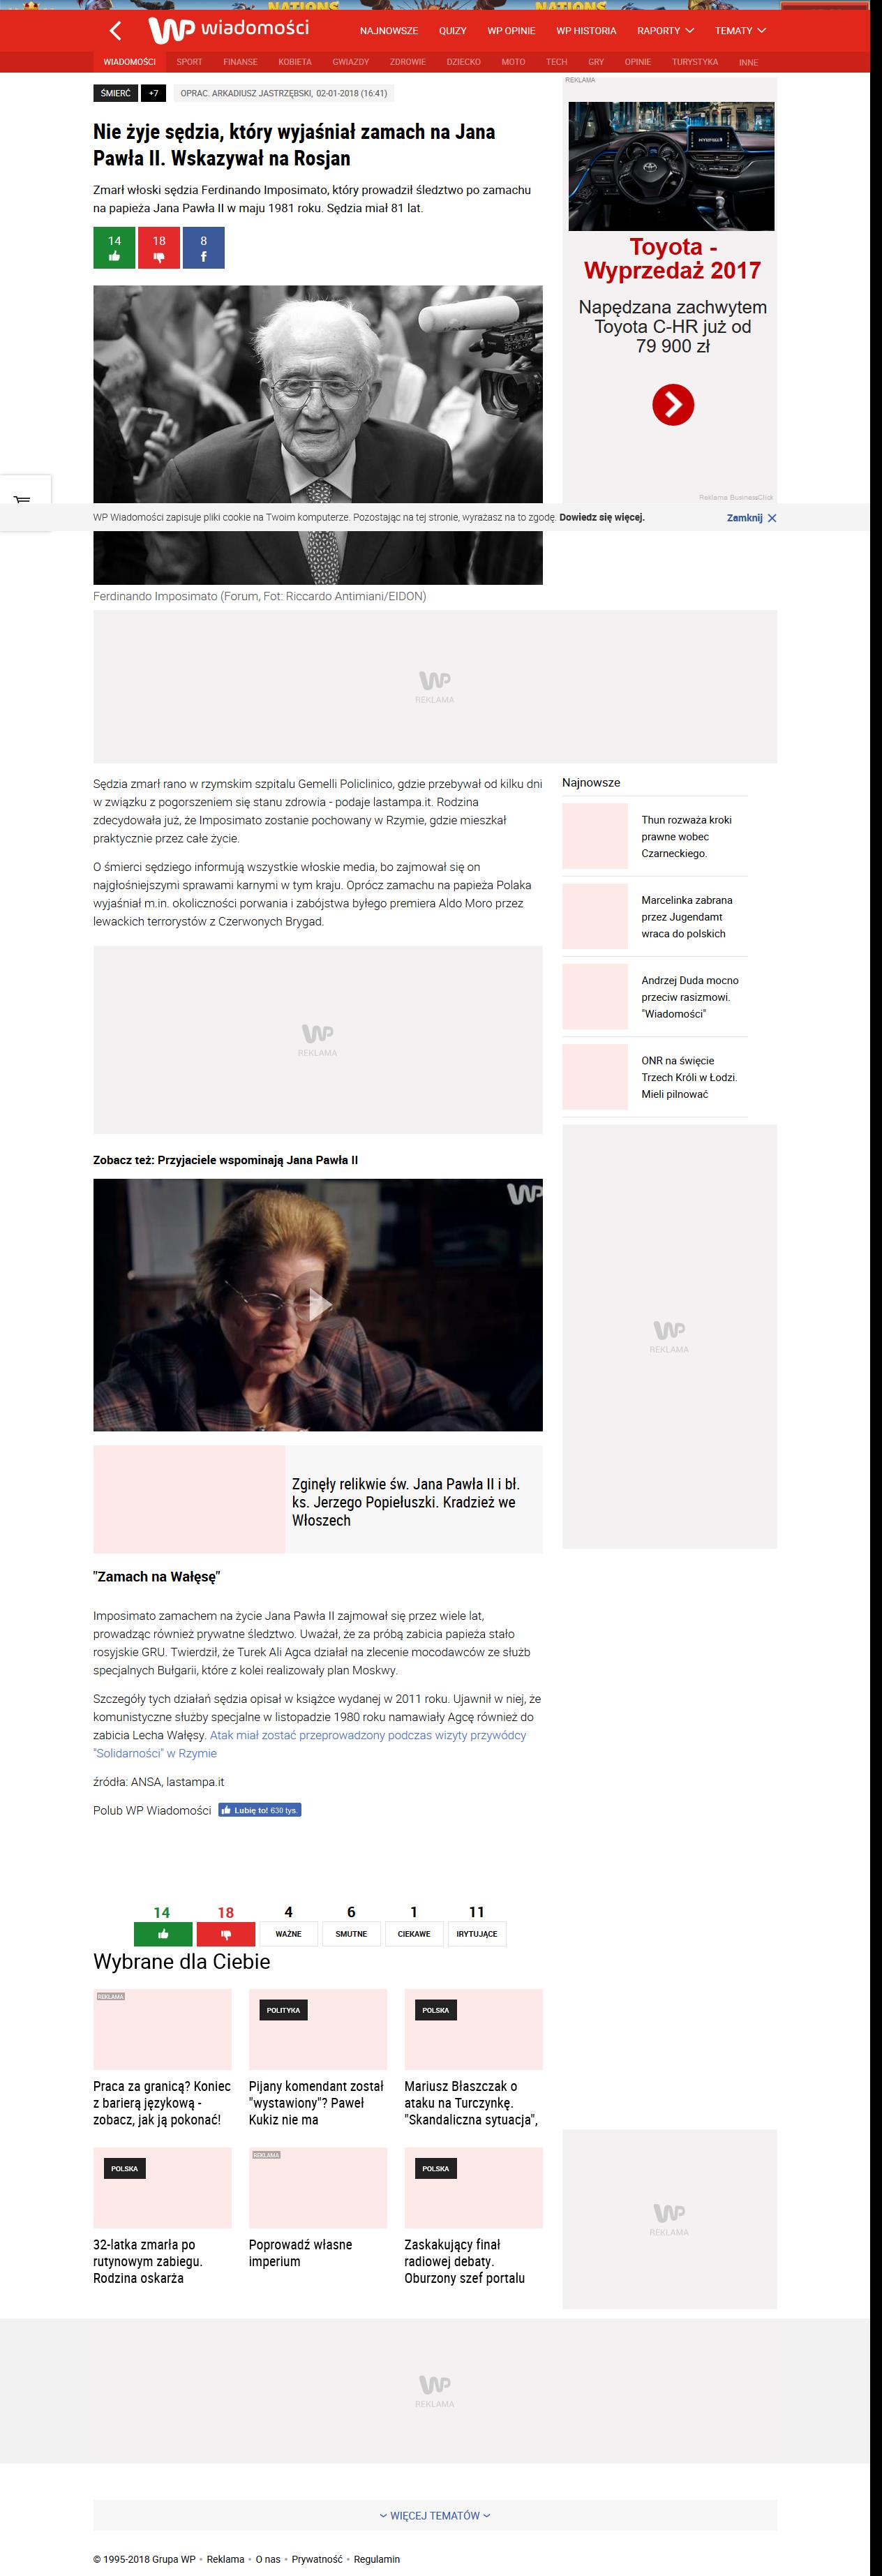title: (92, 122, 496, 172)
